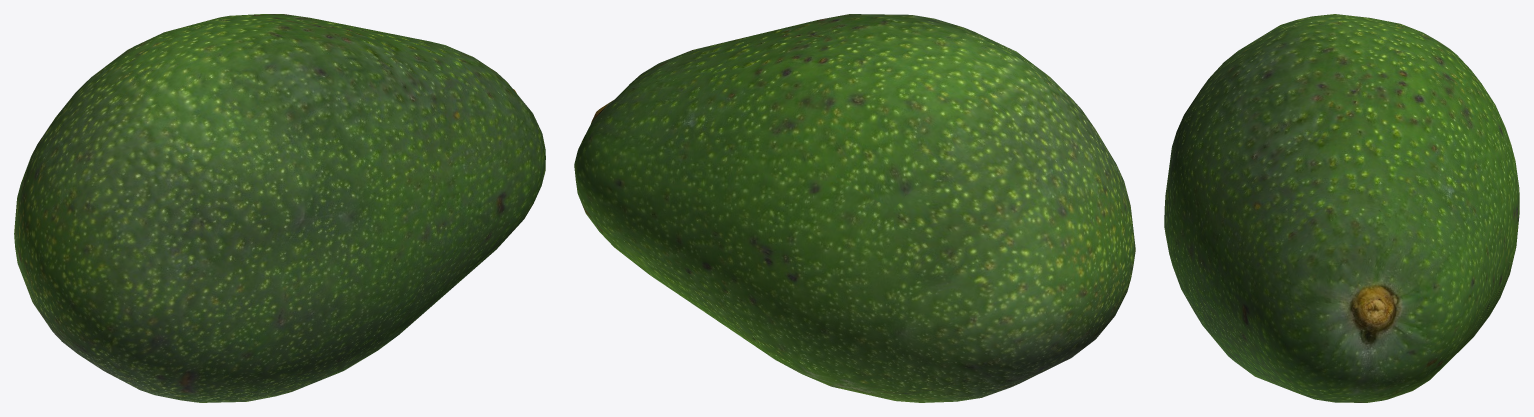
The picture shows the model from 3 angles, left to right: view 1: azimuth 30°, elevation 25°; view 2: azimuth 150°, elevation 25°; view 3: azimuth 270°, elevation 25°; orthographic projection. The views are drawn at different scales.
Visible parts, largest first — view 1: 03_avocado; view 2: 03_avocado; view 3: 03_avocado.
Boxes of the visible parts, x1,y1,x2,y2 form: 03_avocado: (14, 14, 545, 402); 03_avocado: (574, 14, 1135, 402); 03_avocado: (1164, 14, 1519, 402).
Bounding box in the file's own units: 1.3 × 0.8549 × 0.8263.
1 material, 1 textured.
